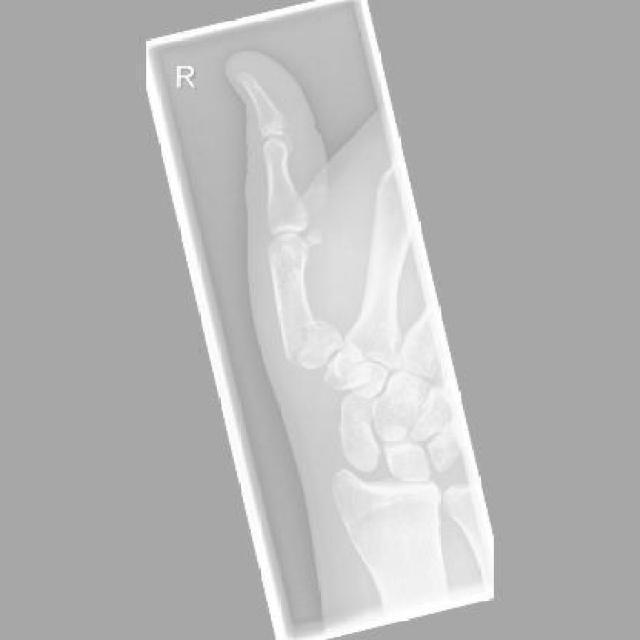Fracture: (277, 314, 334, 368)
